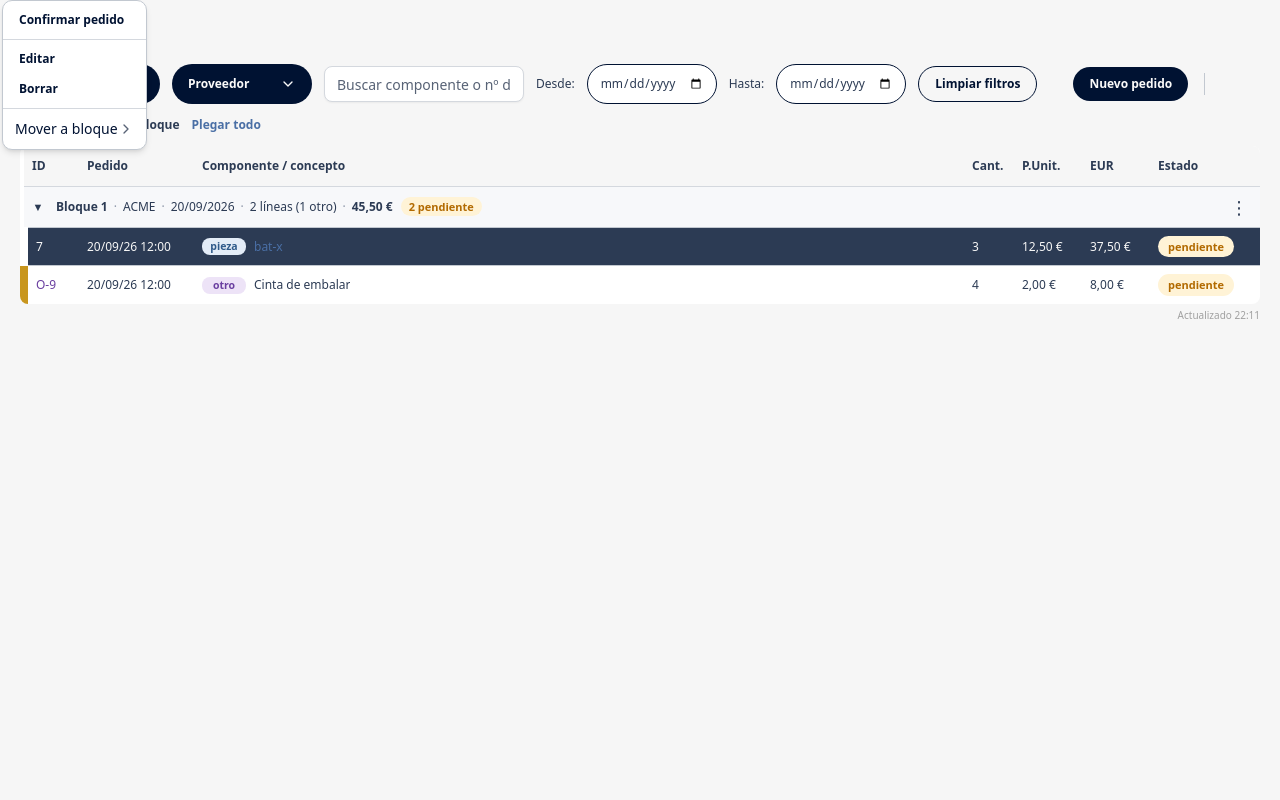
Test case: PedidosPage: "Editar" abre el editor del tipo de la línea (0.9.15: piezas y otros en la misma lista) › pieza: "Editar" → "Editar pedido #7"; Guardar escribe y lo cierra
The width and height of the screenshot is (1280, 800).
Step 1. Click the menu item "Editar" → coordinates (37, 58), box 19,50 -> 55,67
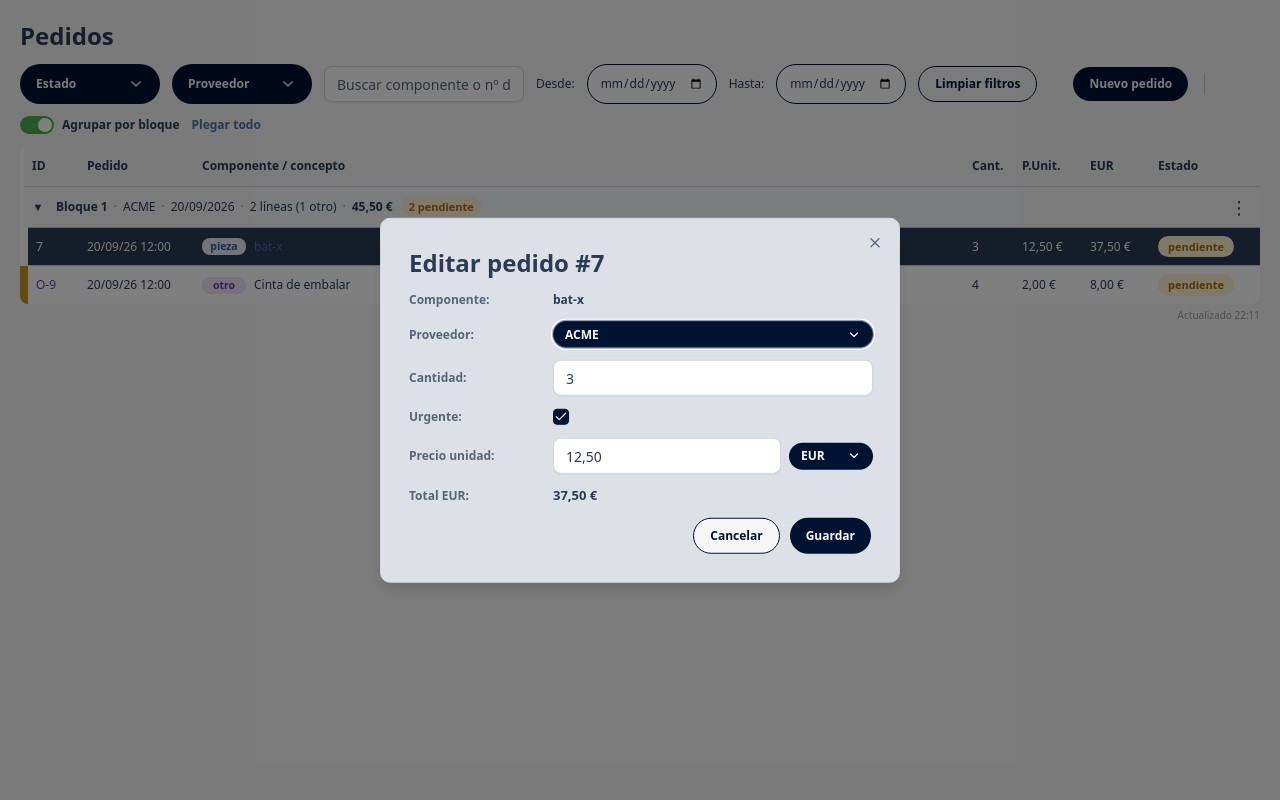
Now the dialog "Editar pedido #7" is shown, box 380,218 -> 900,582
Now the text "Componente:" is shown, box 409,291 -> 490,308
Now the text "ACME" is shown, box 565,325 -> 599,343
Step 2. Click the button "Guardar" → coordinates (830, 535), box 790,517 -> 871,553
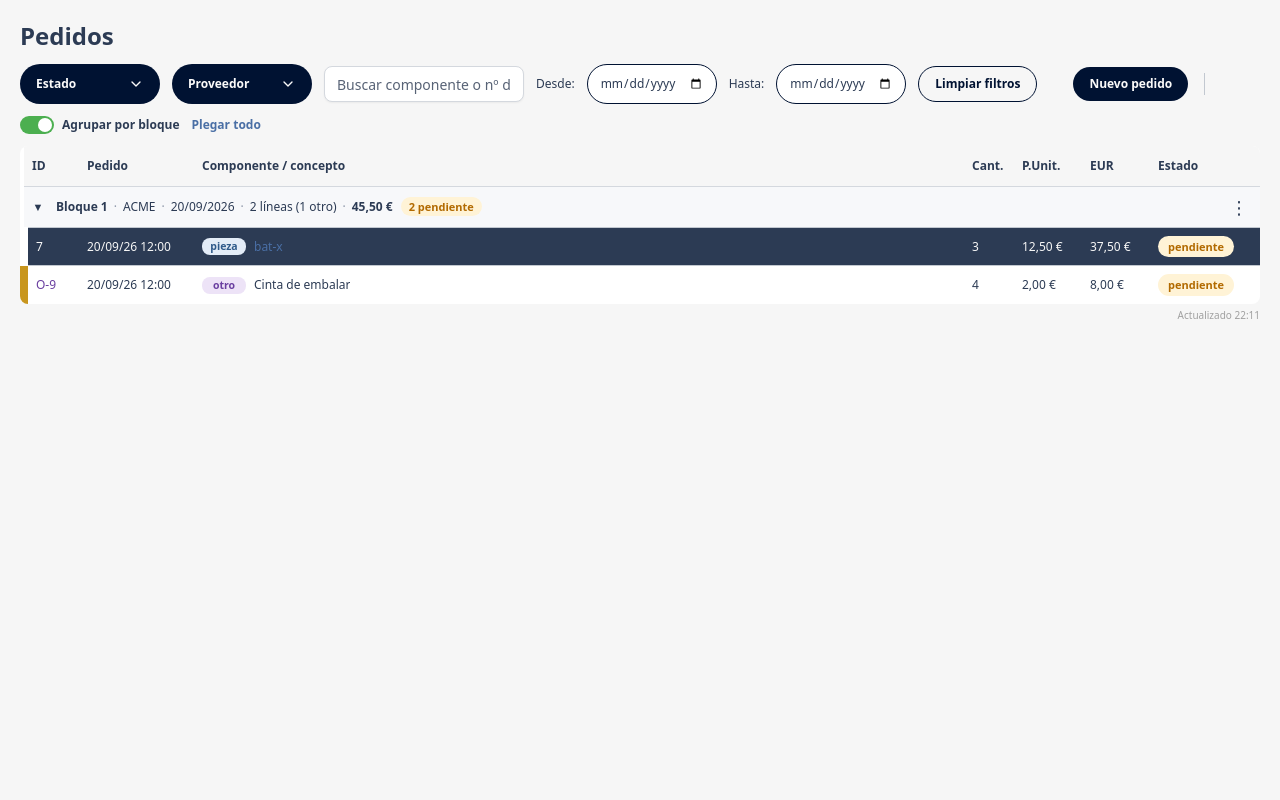
Now the heading "Editar pedido #7" is gone
